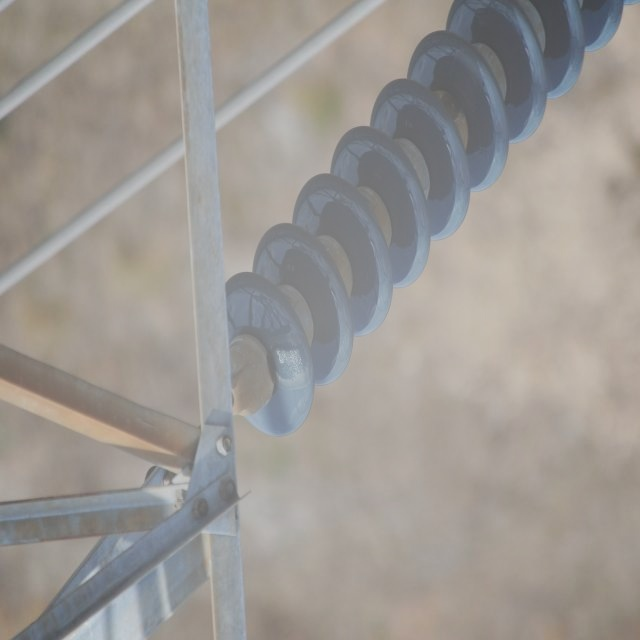insulator: (222, 0, 621, 438)
